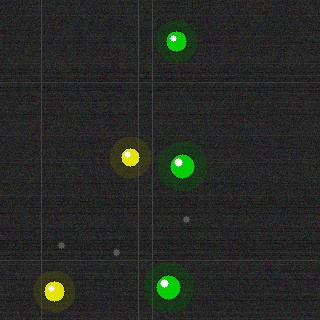green_normal: (168, 152, 196, 180), (154, 273, 182, 301), (164, 29, 188, 53)
yellow_warning: (42, 279, 66, 303), (119, 146, 141, 168)
